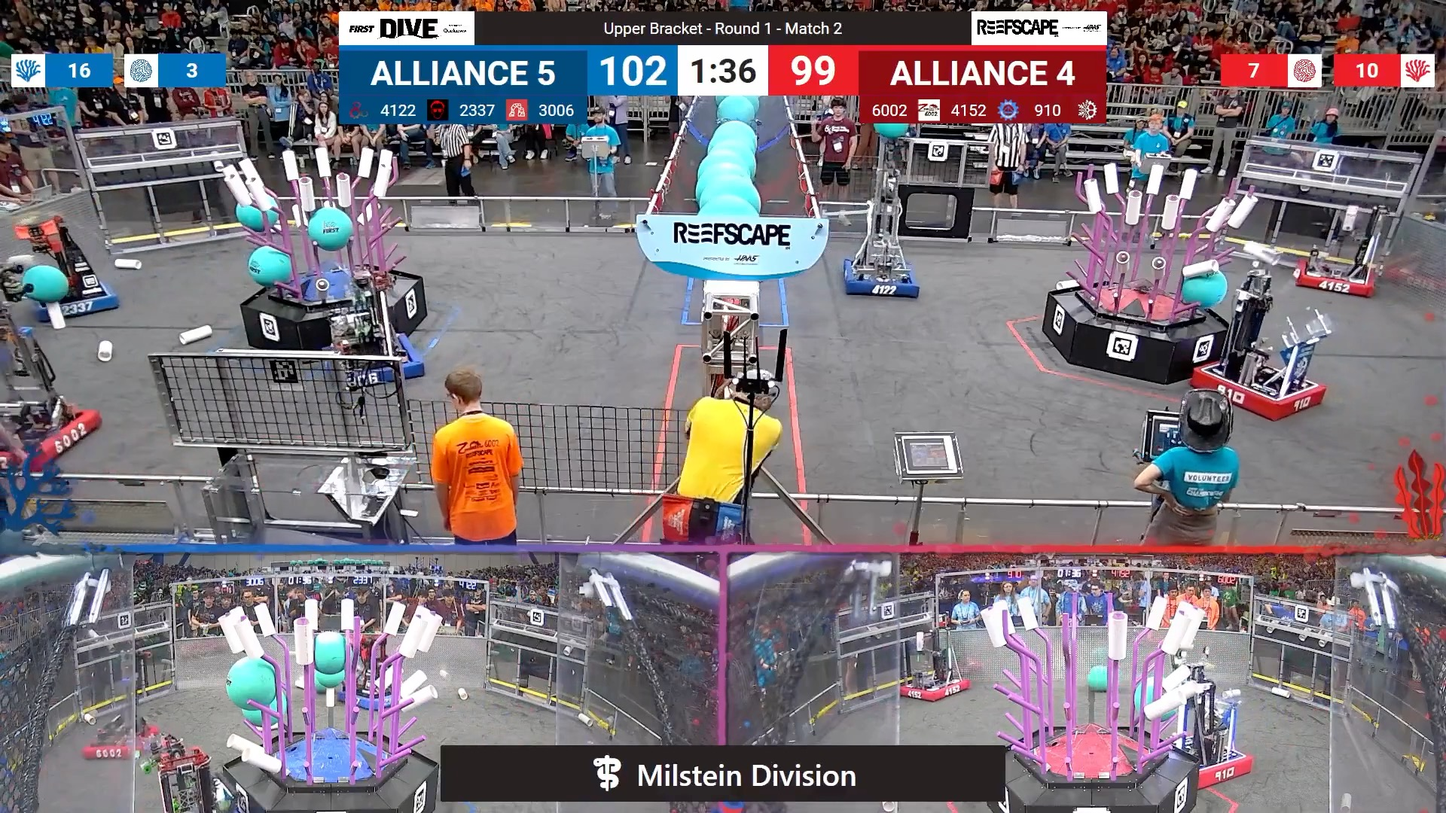bumpers: (1190, 365, 1333, 424), (0, 399, 108, 471), (316, 333, 429, 388), (1283, 253, 1383, 300), (78, 717, 171, 766), (831, 254, 924, 301), (1169, 744, 1258, 790), (38, 276, 122, 322), (895, 673, 976, 703)
